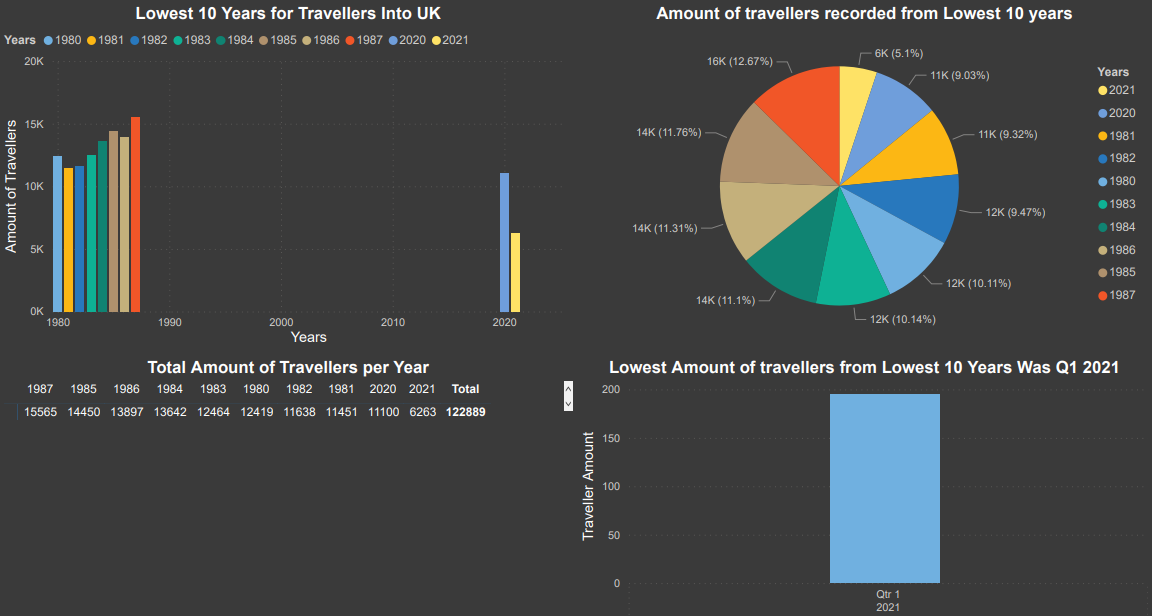

This screenshot's page, from the dashboard's own definition file:
{"tool":"powerbi","page":{"name":"Lowest","canvas":[1280,720],"ordinal":1},"visuals":[{"type":"pieChart","title":"Amount of travellers recorded from Lowest 10 years","fields":{"Category":["NSA Data - Bottom 10.OS Visits Dates (Year)"],"Y":["Sum(NSA Data - Bottom 10.Yearly Total - OS Visits to UK)"]},"box":[641.7,77.3,638.3,330.9],"z":0},{"type":"columnChart","title":"Lowest 10 Years for Travellers Into UK","fields":{"Category":["NSA Data - Bottom 10.OS Visits Dates (Year)"],"Y":["Sum(NSA Data - Bottom 10.Yearly Total - OS Visits to UK)"],"Series":["NSA Data - Bottom 10.OS Visits Dates (Year)"]},"box":[0,77.3,640,330.9],"z":1000},{"type":"pivotTable","title":"Total Amount of Travellers per Year","fields":{"Columns":["NSA Data - Bottom 10.OS Visits Dates (Year)"],"Values":["Sum(NSA Data - Bottom 10.Yearly Total - OS Visits to UK)"]},"box":[0,490.5,641.7,73.9],"z":2000},{"type":"columnChart","title":"Lowest Amount of travellers from Lowest 10 Years Was Q1 2021","fields":{"Category":["NSA Data - Bottom 10.UK Visits Dates (Month).Variation.Date Hierarchy.Year","NSA Data - Bottom 10.UK Visits Dates (Month).Variation.Date Hierarchy.Quarter"],"Y":["Sum(NSA Data - Bottom 10.Quarterly Total - OS Visits to UK)"]},"box":[641,408.8,639,310.9],"z":3000},{"type":"textbox","box":[0,11.8,1280,42],"z":3001}]}

Visuals, with their boxes on the page's 1280x720 design canvas (x1, y1, x2, y2). These are canvas units, not pixel positions in the 1152x616 screenshot, which may show the page scaled, cropped or inside an application window:
"Amount of travellers recorded from Lowest 10 years" pieChart: <bbox>642, 77, 1280, 408</bbox>
"Lowest 10 Years for Travellers Into UK" columnChart: <bbox>0, 77, 640, 408</bbox>
"Total Amount of Travellers per Year" pivotTable: <bbox>0, 490, 642, 564</bbox>
"Lowest Amount of travellers from Lowest 10 Years Was Q1 2021" columnChart: <bbox>641, 409, 1280, 720</bbox>
textbox: <bbox>0, 12, 1280, 54</bbox>
